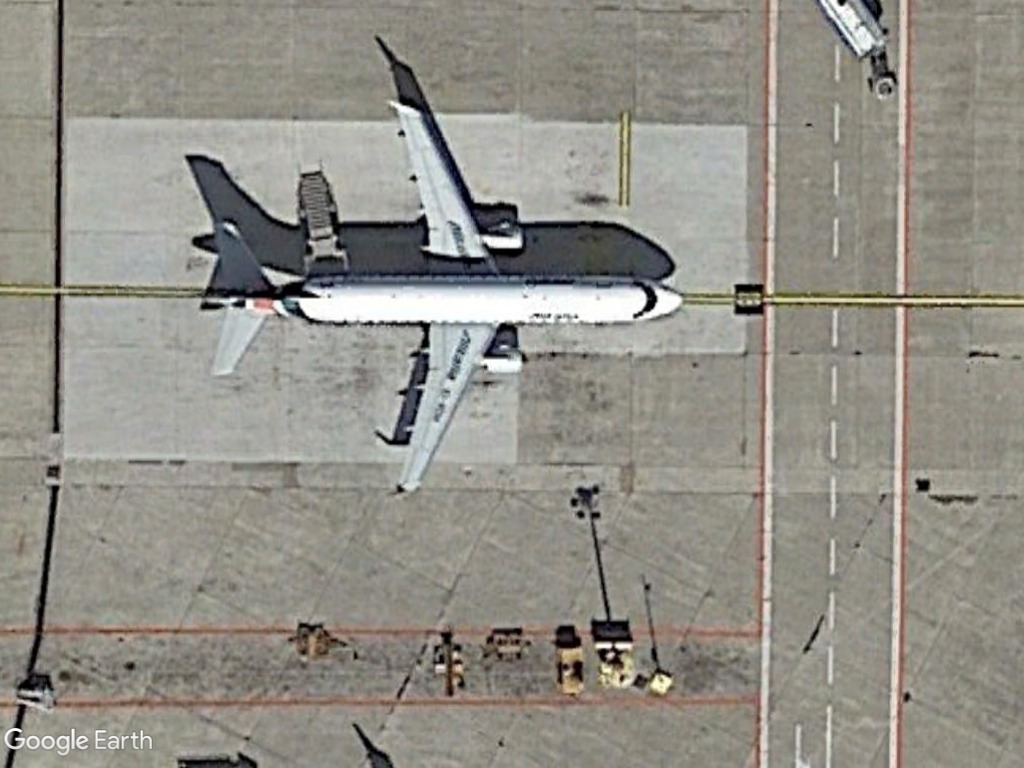airliner: (201, 87, 690, 505)
stairtruck: (295, 166, 355, 274)
